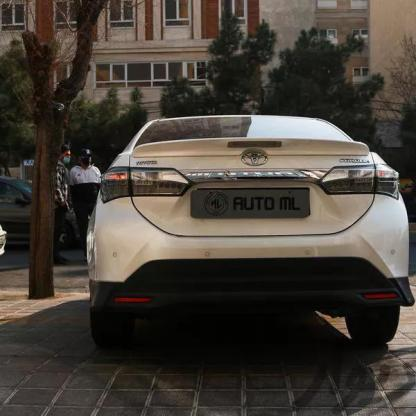Car: (73, 108, 416, 365), (0, 163, 67, 269)
